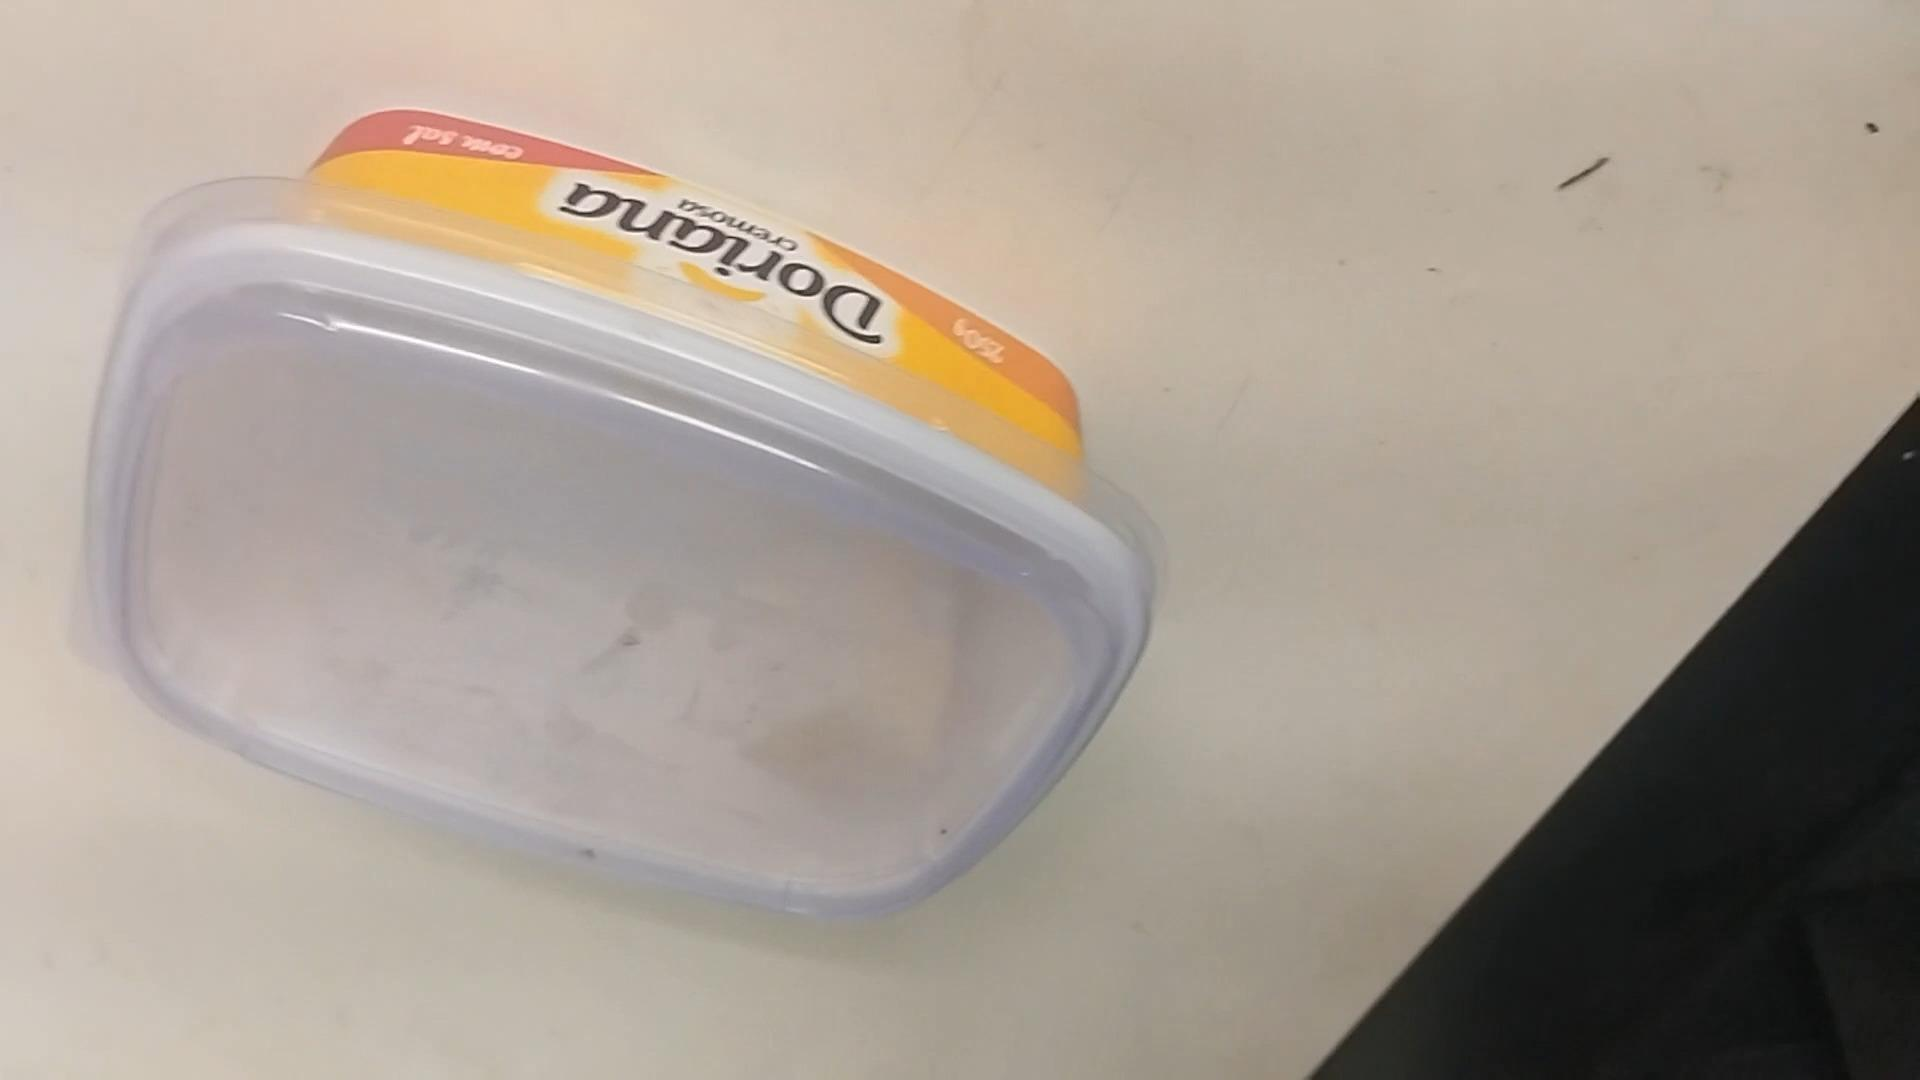butter: (73, 109, 1153, 928)
